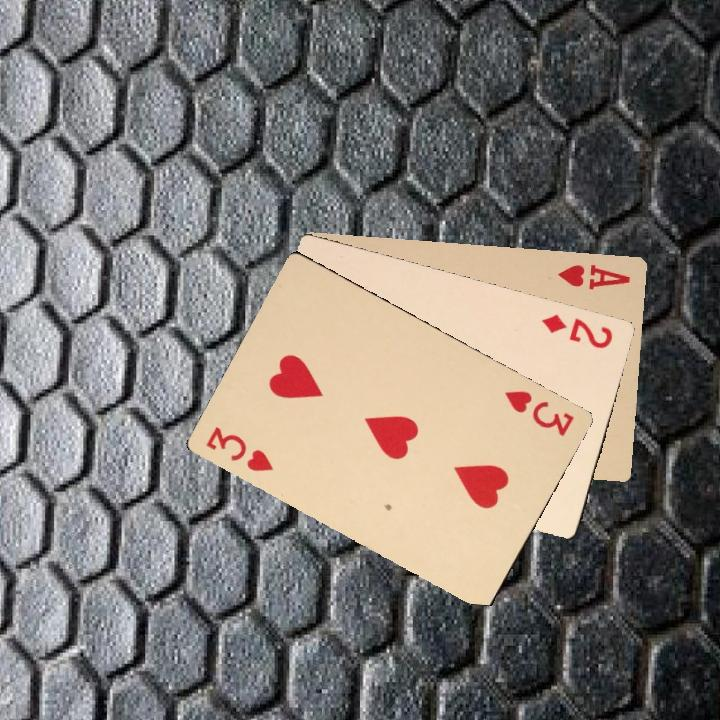2d: (539, 310, 615, 351)
3h: (500, 386, 577, 439), (201, 422, 276, 475)
Ah: (554, 260, 633, 292)
